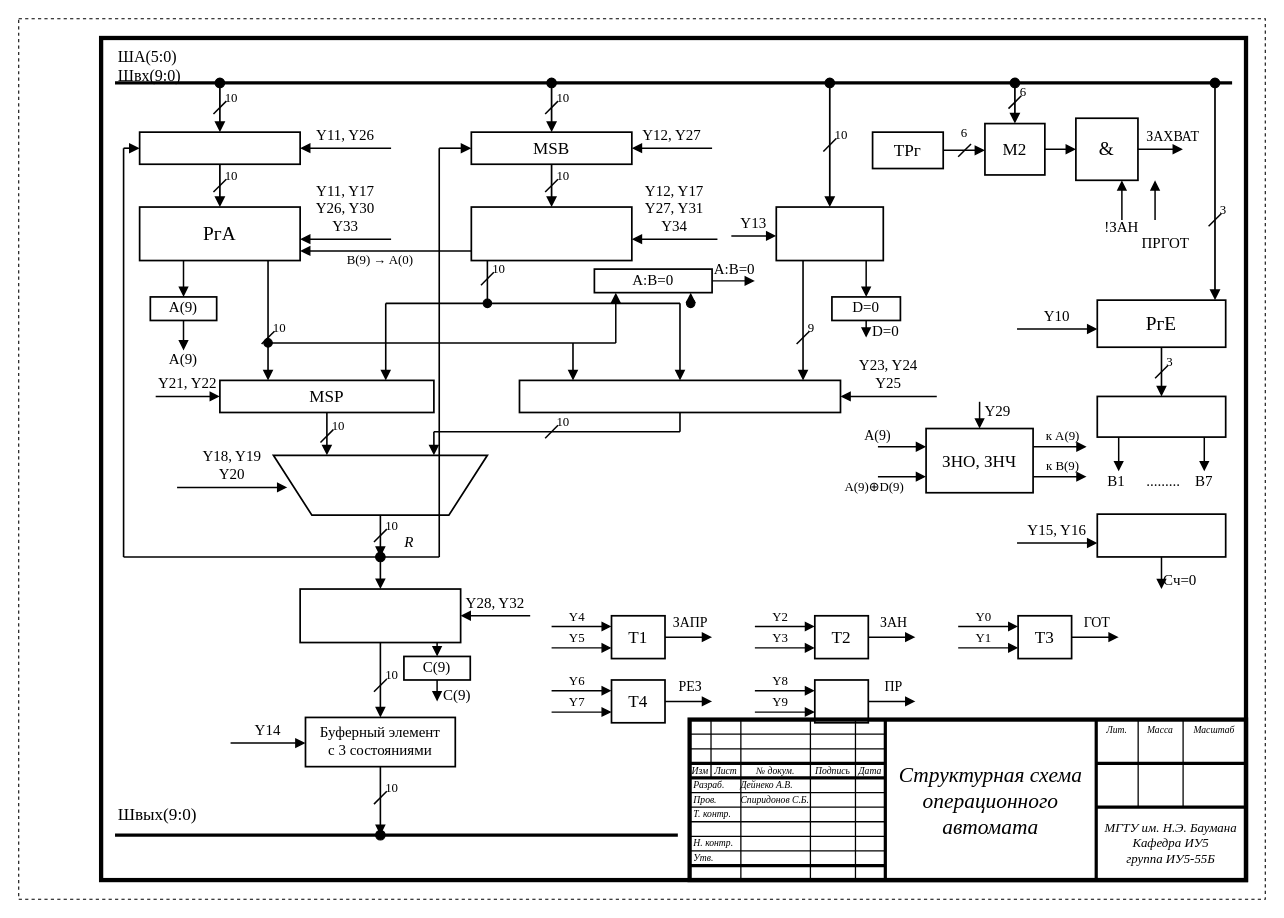
Some shapes in this 1284 by 918 pixel diagram are drawn without their labels. Each missing label, with the centre of its shape:
"ALU" belongs at pixel 380 485.
"MSA" belongs at pixel 219 148.
"MSQ" belongs at pixel 679 396.
"T5" belongs at pixel 841 701.
"ДшКОП" belongs at pixel 1161 416.
"РгD" belongs at pixel 829 233.
"РгВ" belongs at pixel 551 233.
"РгС" belongs at pixel 380 615.
"Сч" belongs at pixel 1161 535.
